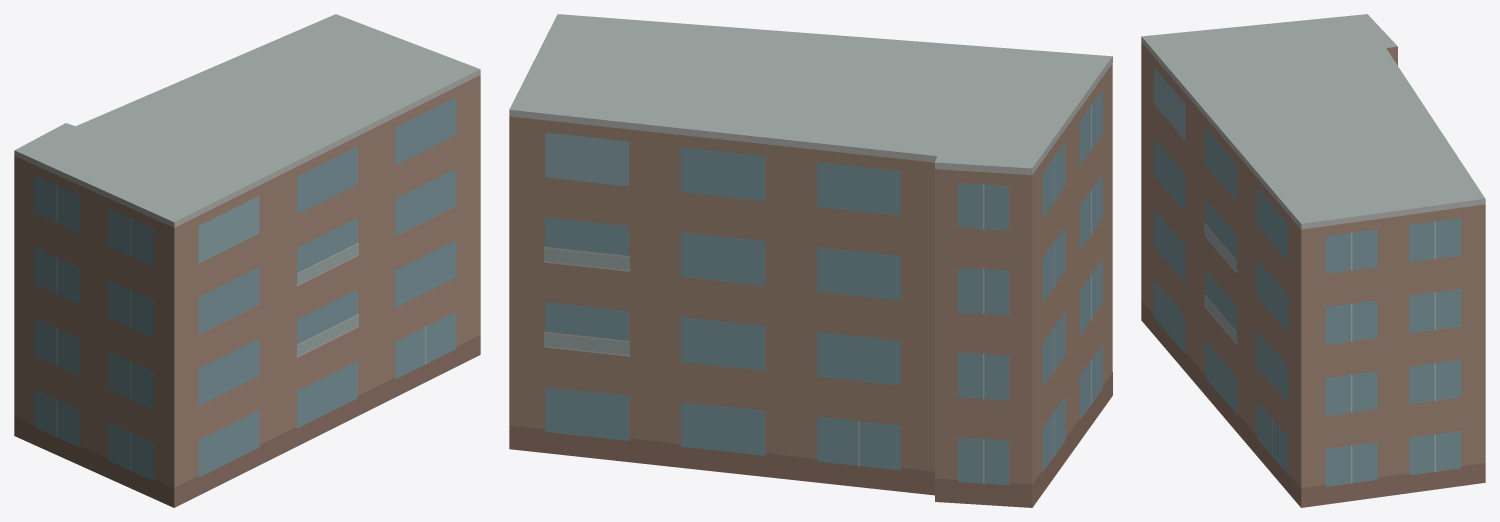
The model's file is survey-upis-32937406.glb.
3 renders of one model, left to right at view 1: azimuth 30°, elevation 25°; view 2: azimuth 150°, elevation 25°; view 3: azimuth 270°, elevation 25°, orthographic. The views are drawn at different scales.
Parts seen in each view (by area): view 1: survey-upis-32937406.tmp; view 2: survey-upis-32937406.tmp; view 3: survey-upis-32937406.tmp.
Boxes of the visible parts, <box> form: survey-upis-32937406.tmp: <box>14,14,480,507</box>; survey-upis-32937406.tmp: <box>509,14,1112,507</box>; survey-upis-32937406.tmp: <box>1141,14,1485,507</box>.
Size of the model in its own units: 19.67 by 12.4 by 13.63.
